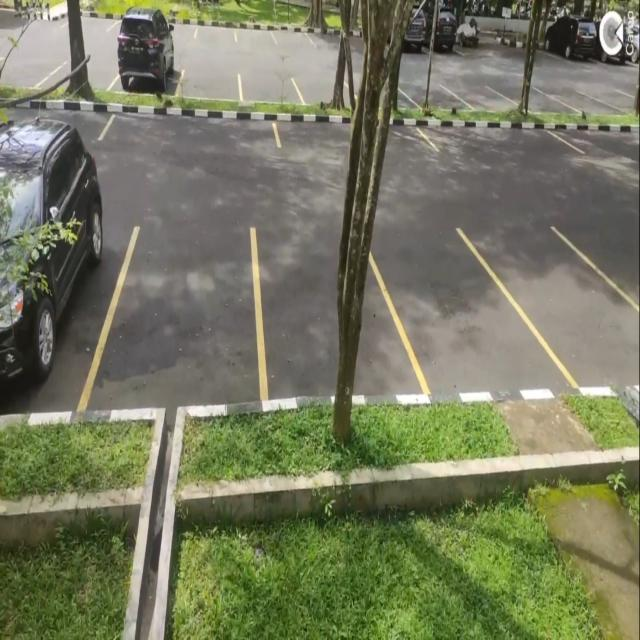empty: (103, 231, 259, 411), (256, 225, 388, 401), (390, 226, 512, 391), (508, 227, 617, 387), (101, 106, 281, 148), (177, 62, 242, 100), (239, 68, 304, 105)
occupied: (110, 22, 179, 94)
